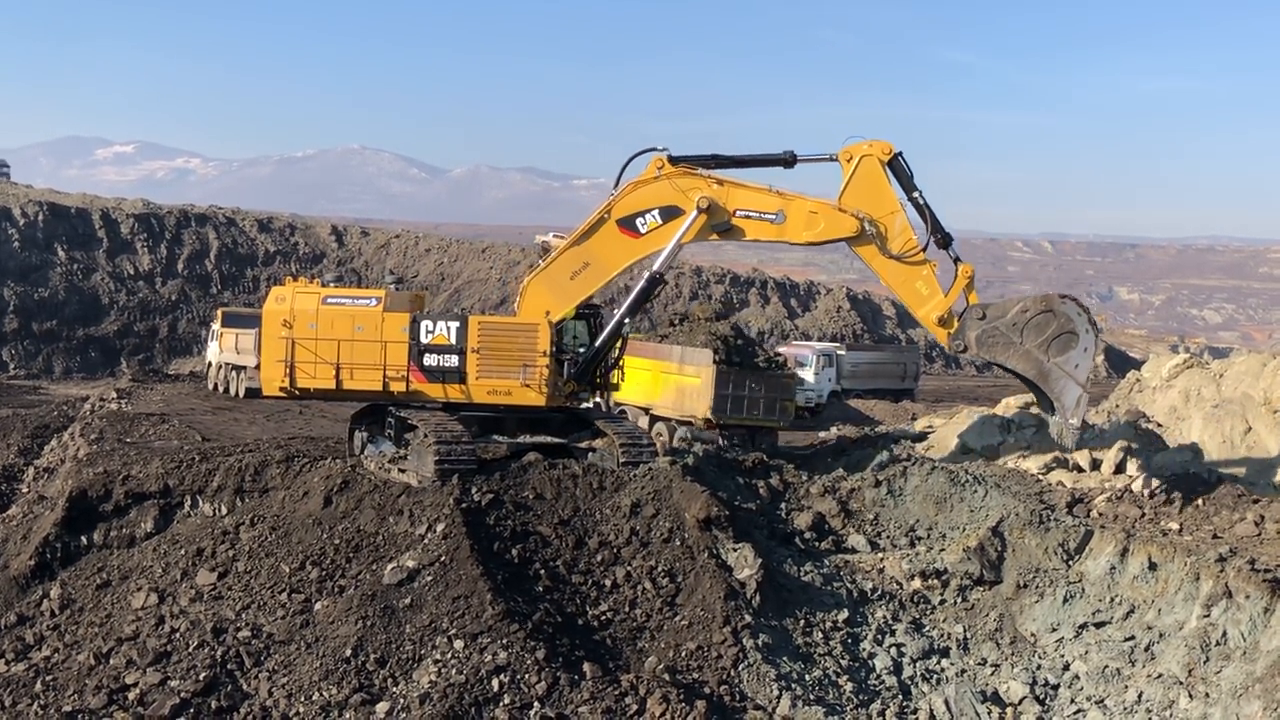empty: (943, 286, 1099, 452)
